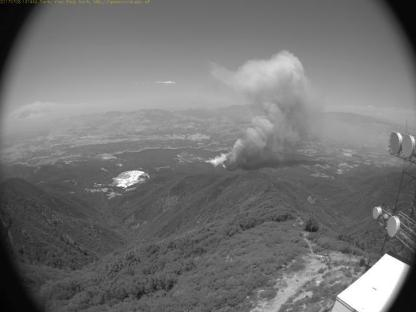smoke: (202, 45, 332, 172)
